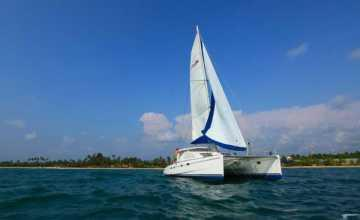fanchuan: (162, 27, 286, 175)
